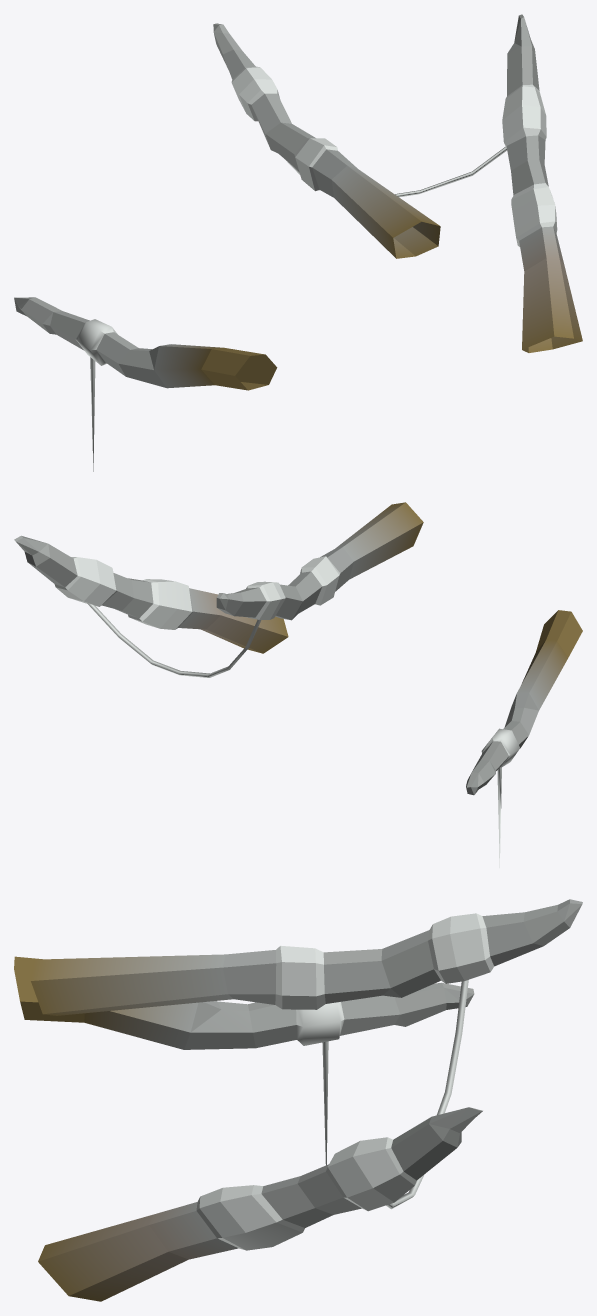
The picture shows the model from 3 angles, top to bottom: view 1: azimuth 30°, elevation 25°; view 2: azimuth 150°, elevation 25°; view 3: azimuth 270°, elevation 25°; orthographic projection. The views are drawn at different scales.
Visible parts, largest first — view 1: G:\FFXIV-MapTools\exports\d2f1\bg\ex1\02_dra_d2\fld\d2f1\bgp (×2); view 2: G:\FFXIV-MapTools\exports\d2f1\bg\ex1\02_dra_d2\fld\d2f1\bgp (×2); view 3: G:\FFXIV-MapTools\exports\d2f1\bg\ex1\02_dra_d2\fld\d2f1\bgp (×2).
Boxes of the visible parts, x1=… form: G:\FFXIV-MapTools\exports\d2f1\bg\ex1\02_dra_d2\fld\d2f1\bgp (×2): x1=14, y1=14, x2=582, y2=471; G:\FFXIV-MapTools\exports\d2f1\bg\ex1\02_dra_d2\fld\d2f1\bgp (×2): x1=14, y1=502, x2=582, y2=867; G:\FFXIV-MapTools\exports\d2f1\bg\ex1\02_dra_d2\fld\d2f1\bgp (×2): x1=14, y1=899, x2=582, y2=1301.
Bounding box in the file's own units: 12.27 × 7.45 × 8.95.
